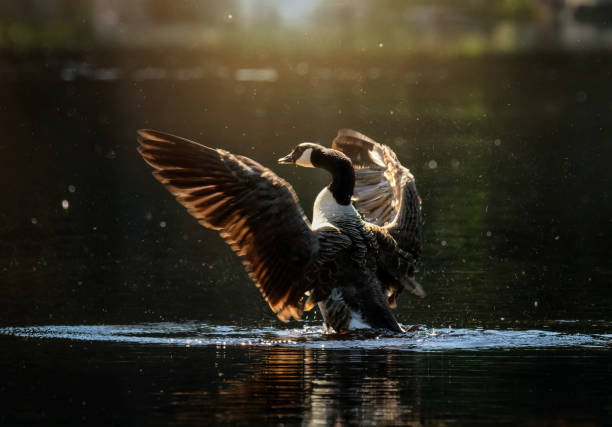goose: (133, 126, 430, 335)
